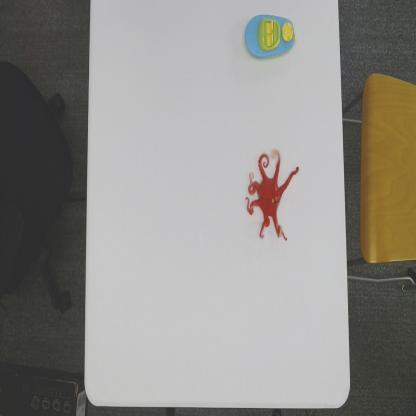Boat: (242, 15, 298, 59)
Octopus: (247, 149, 302, 244)
